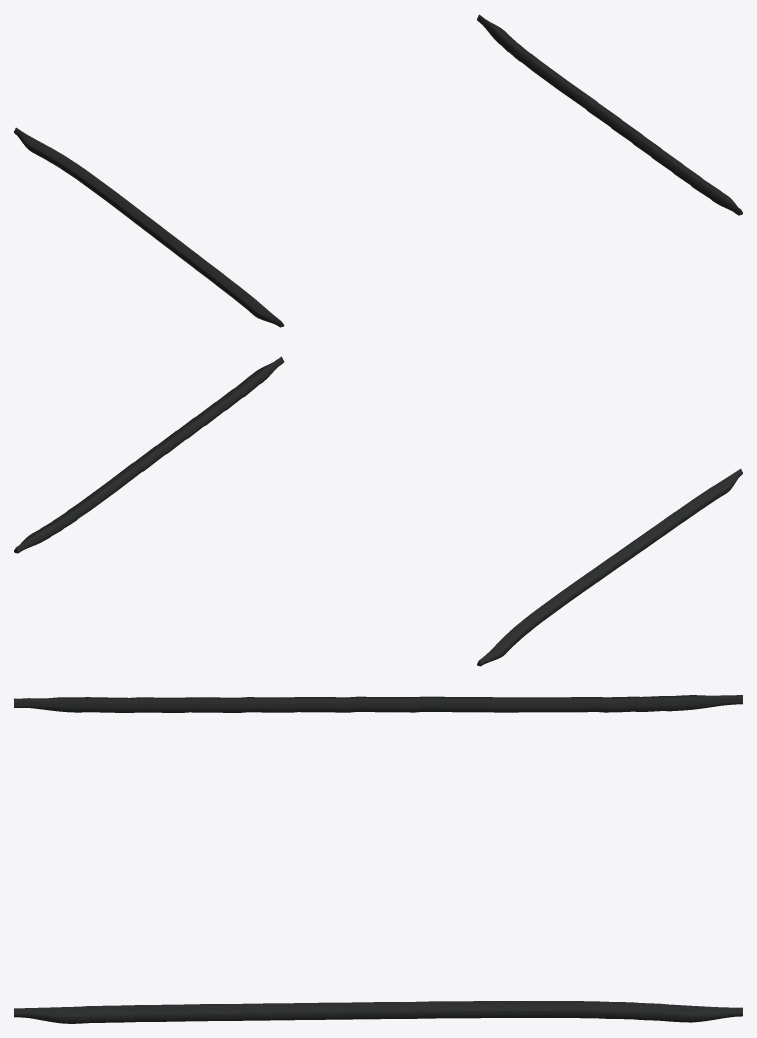
Rendered from RA06B_side_skirts_carbon.glb.
The picture shows the model from 3 angles, top to bottom: view 1: azimuth 30°, elevation 25°; view 2: azimuth 150°, elevation 25°; view 3: azimuth 270°, elevation 25°; orthographic projection. The views are drawn at different scales.
Visible parts, largest first — view 1: MOD_ND_RA06B_blade_R, MOD_ND_RA06B_blade_L; view 2: MOD_ND_RA06B_blade_R, MOD_ND_RA06B_blade_L; view 3: MOD_ND_RA06B_blade_L, MOD_ND_RA06B_blade_R.
Boxes of the visible parts, bbox=[...] form: MOD_ND_RA06B_blade_R: bbox=[14, 127, 284, 327]; MOD_ND_RA06B_blade_L: bbox=[477, 14, 742, 215]; MOD_ND_RA06B_blade_R: bbox=[477, 468, 742, 666]; MOD_ND_RA06B_blade_L: bbox=[14, 356, 284, 553]; MOD_ND_RA06B_blade_L: bbox=[14, 1001, 742, 1023]; MOD_ND_RA06B_blade_R: bbox=[14, 695, 742, 712].
Bounding box in the file's own units: 1.64 × 0.0344 × 1.58.
1 material, 1 textured.
